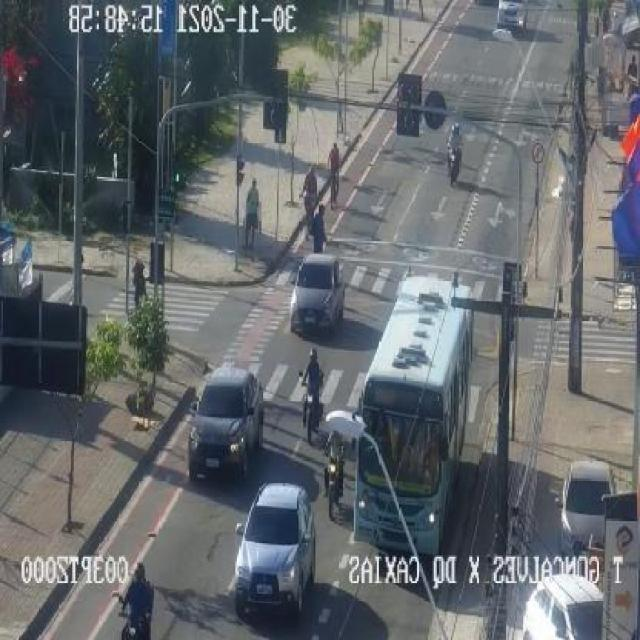Bus: (345, 266, 486, 586)
Car: (223, 479, 321, 632), (178, 368, 265, 482), (278, 254, 350, 324)
Cycle: (420, 116, 484, 189), (113, 554, 164, 640), (306, 431, 353, 524), (296, 339, 336, 445), (321, 135, 352, 204), (290, 162, 322, 224)
